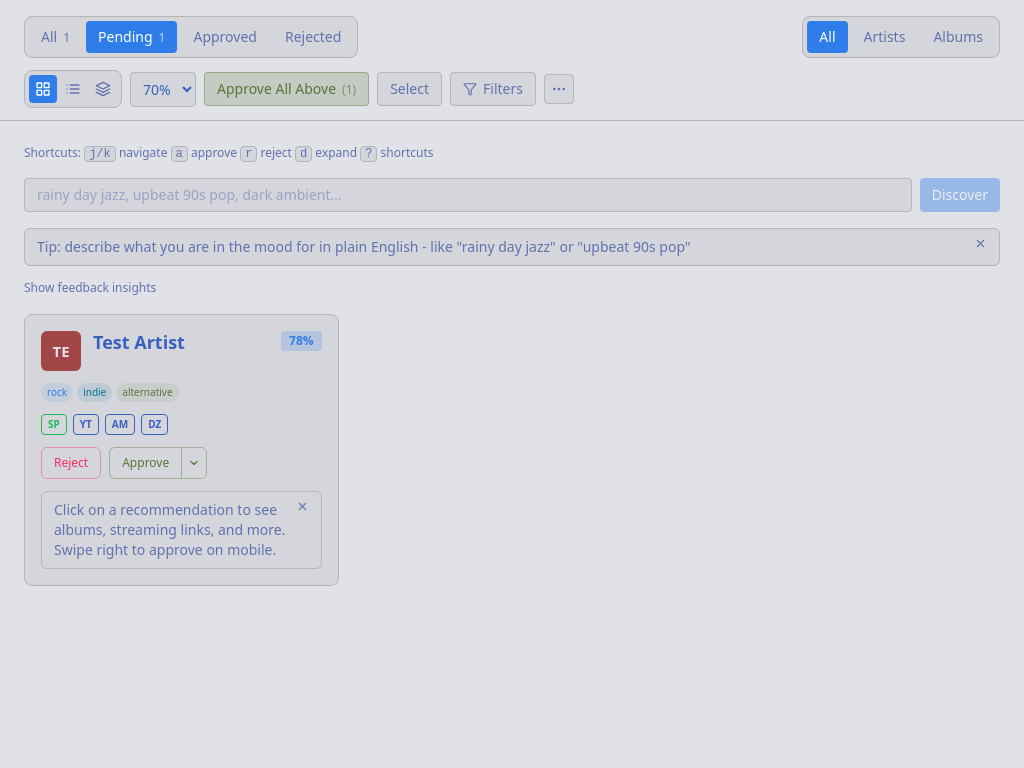
Test case: DiscoverPage › filter tabs update the displayed list
Check: the heading "Test Artist" is shown, box [93,331,185,354]
Click the button "Approved". click: (225,37)
box: [181,21,269,53]
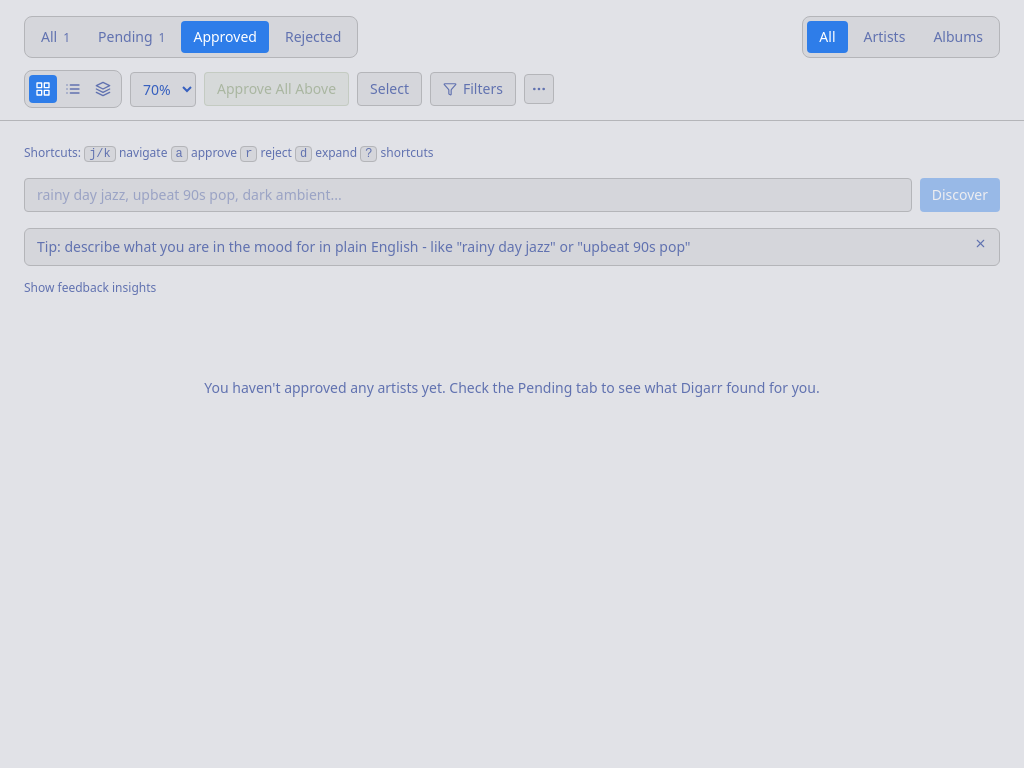
Check: the button "Test Artist" is gone
